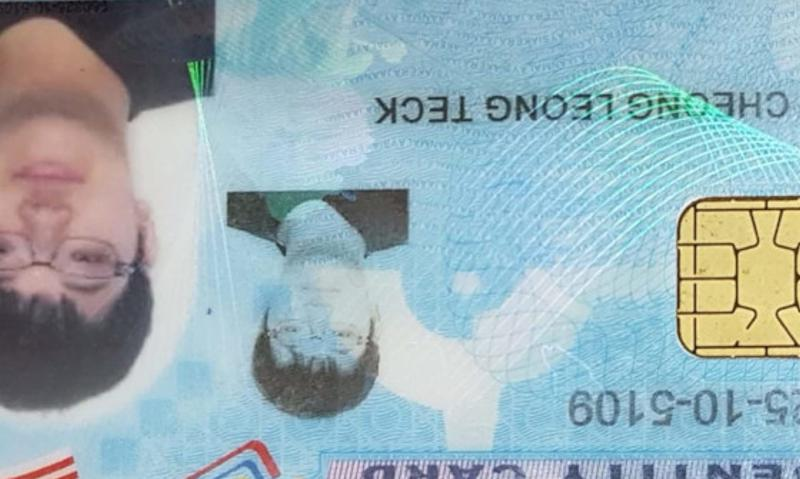hologram: (435, 122, 674, 360)
hologramB: (218, 3, 375, 187)
